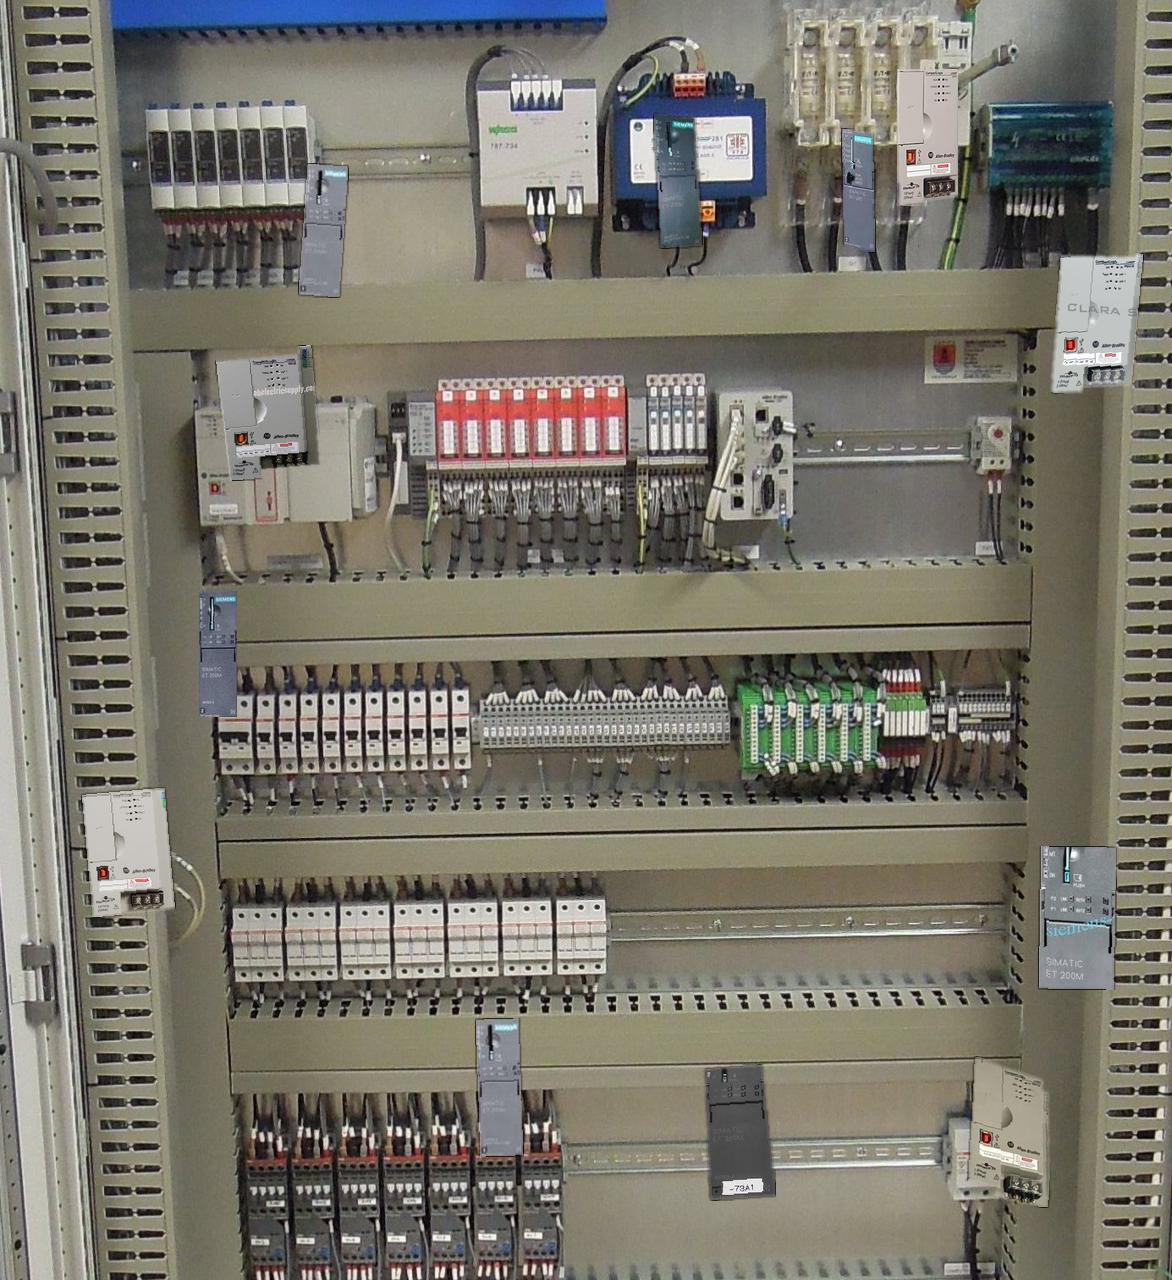AllenBradley: (216, 345, 319, 479), (1052, 254, 1142, 392), (968, 1057, 1048, 1206), (83, 789, 174, 917), (897, 69, 957, 205)
Siemens: (842, 129, 874, 251)
